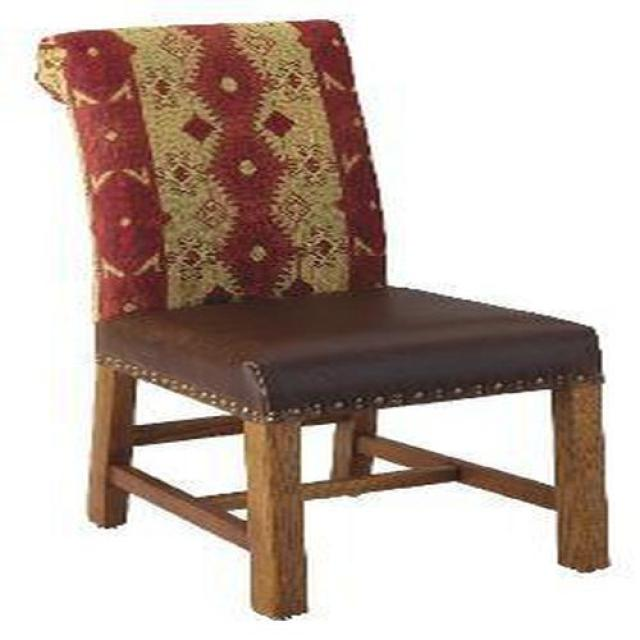chair: (35, 20, 611, 622)
